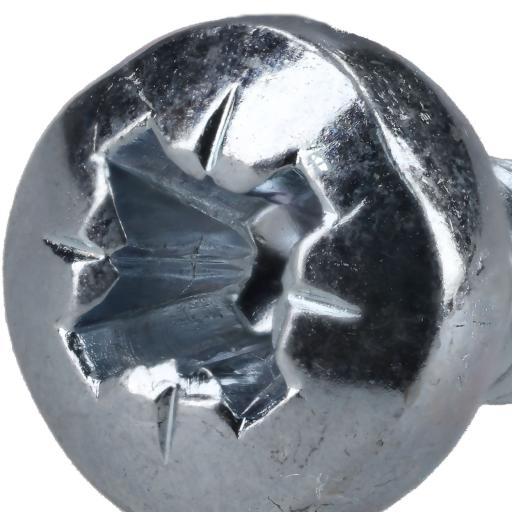Pozidriv: (0, 3, 511, 512)
